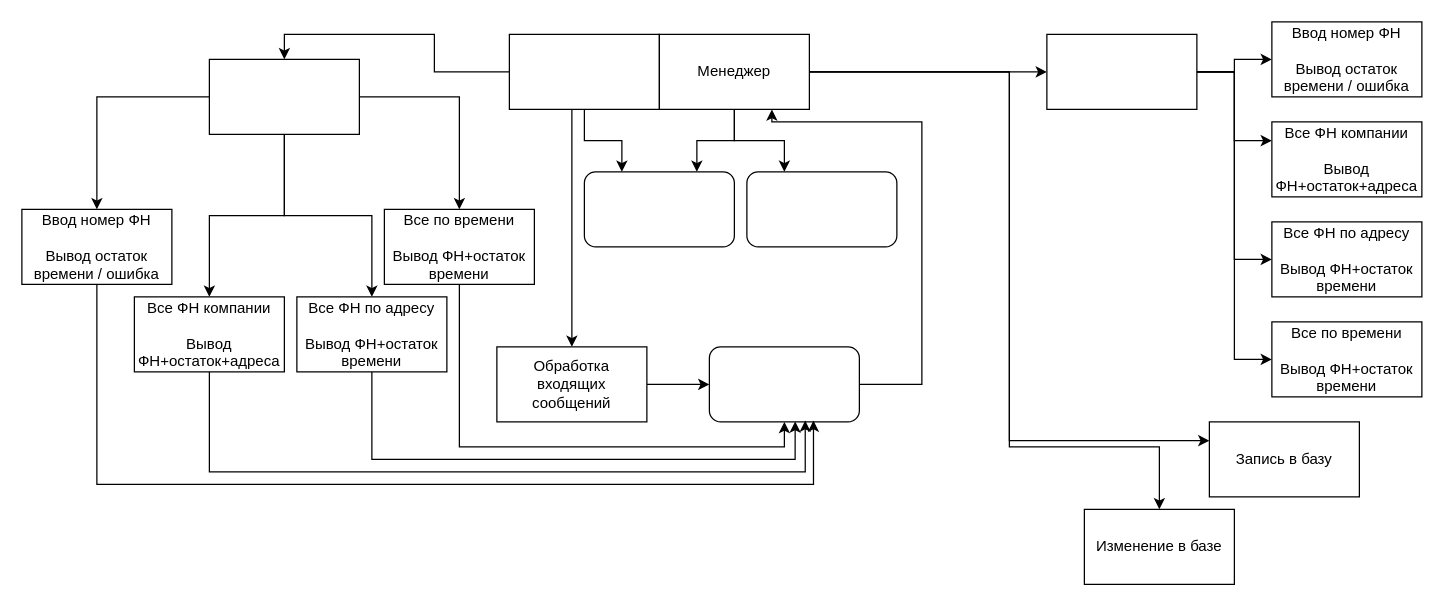
Image size: 1444x606. Some labels were removed from this diagram. Here are the shapes that lost their labels. From the top down, the centre of each, then its label:
At (583,71): "Пользователь".
At (1121,71): "Запрос без ограничений доступа".
At (283,96): "Запрос с ограничением доступа".
At (658,209): "Самостоятельный блок оповещения".
At (821,209): "Самостоятельный блок выдачи ФН + срок замены до".
At (783,384): "Самостоятельная переотправка в хранилище".
